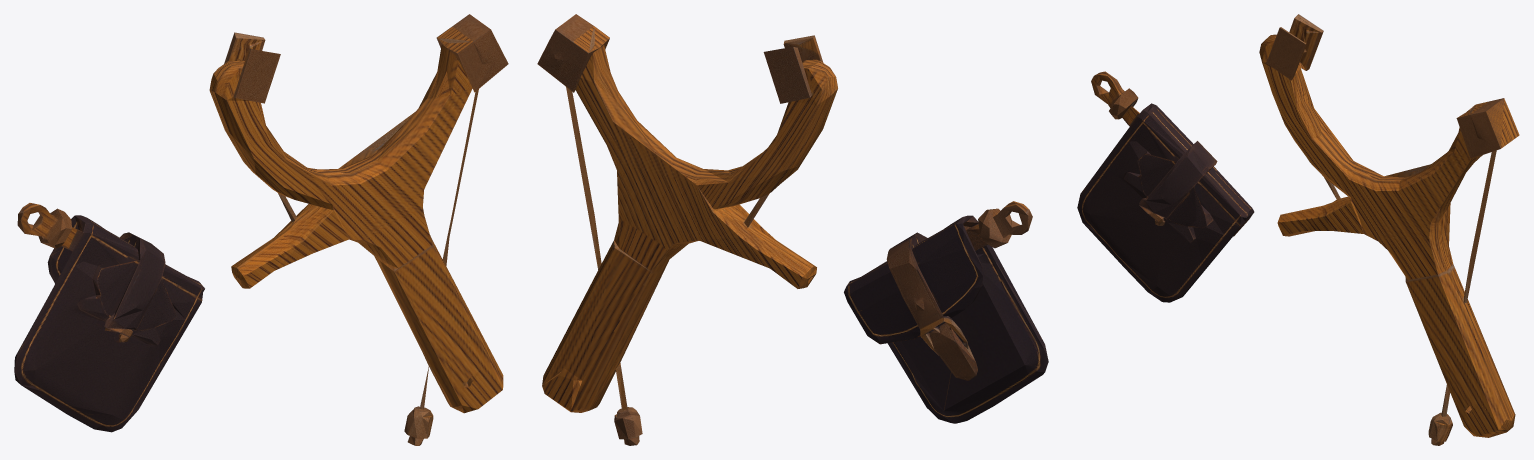
File: sling.glb
3 renders of one model, left to right at view 1: azimuth 30°, elevation 25°; view 2: azimuth 150°, elevation 25°; view 3: azimuth 330°, elevation 25°, orthographic. The views are drawn at different scales.
Bounding box in the file's own units: 1.9 × 1.64 × 0.2301.
1 material, 1 textured.
